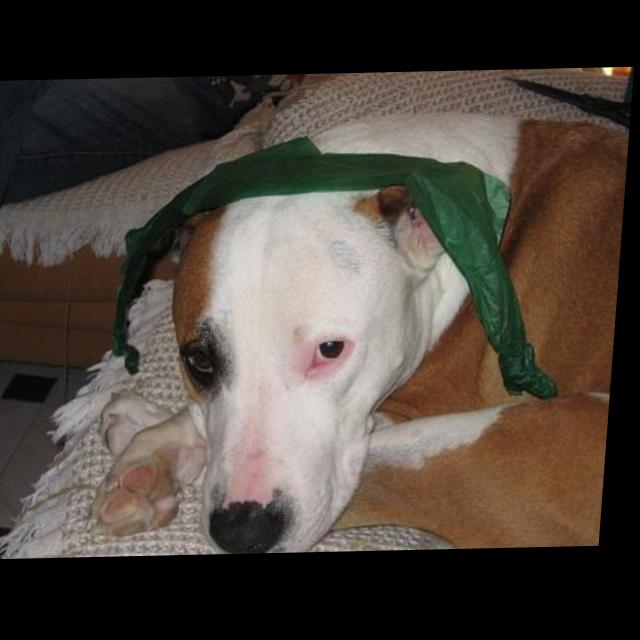amstaff: (93, 107, 634, 557)
